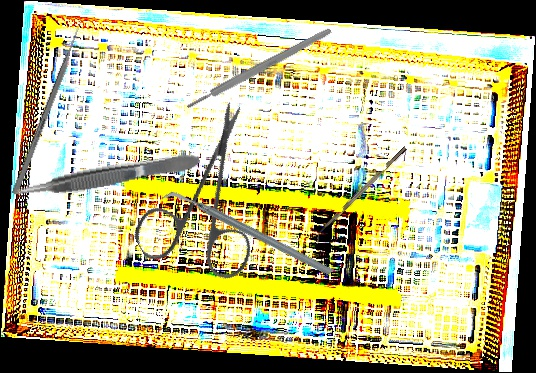Chopper: (161, 142, 335, 326), (310, 146, 412, 244)
Iris Scissors: (99, 98, 309, 310)
Pusher: (11, 17, 86, 196)
Scalpel Handle: (185, 26, 333, 111)
Tissue Forceps: (10, 150, 202, 203)
